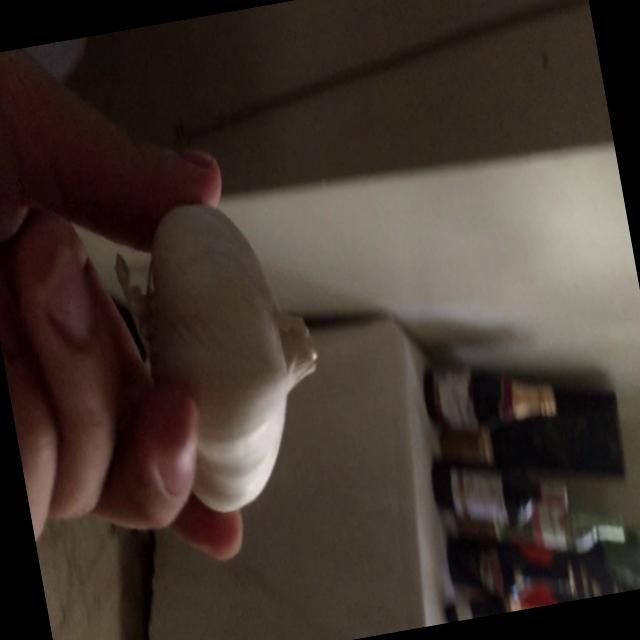bawang: (93, 182, 343, 529)
